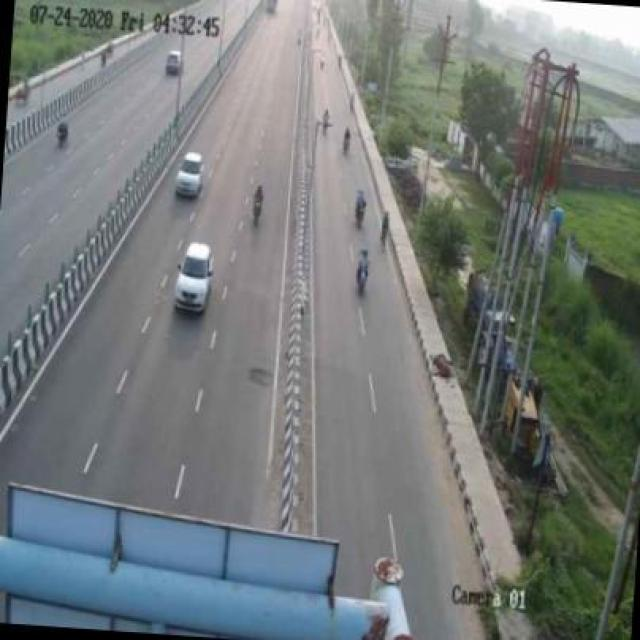car: (168, 241, 220, 326), (171, 133, 209, 203)
